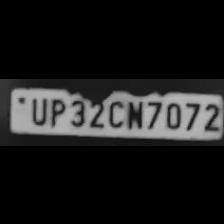0: (161, 98, 183, 130)
2: (199, 100, 221, 132), (88, 95, 104, 127)
3: (67, 96, 87, 127)
7: (180, 98, 200, 130), (142, 97, 162, 128)
C: (104, 96, 124, 128)
N: (124, 96, 144, 128)
P: (47, 96, 67, 127)
U: (26, 94, 48, 125)
